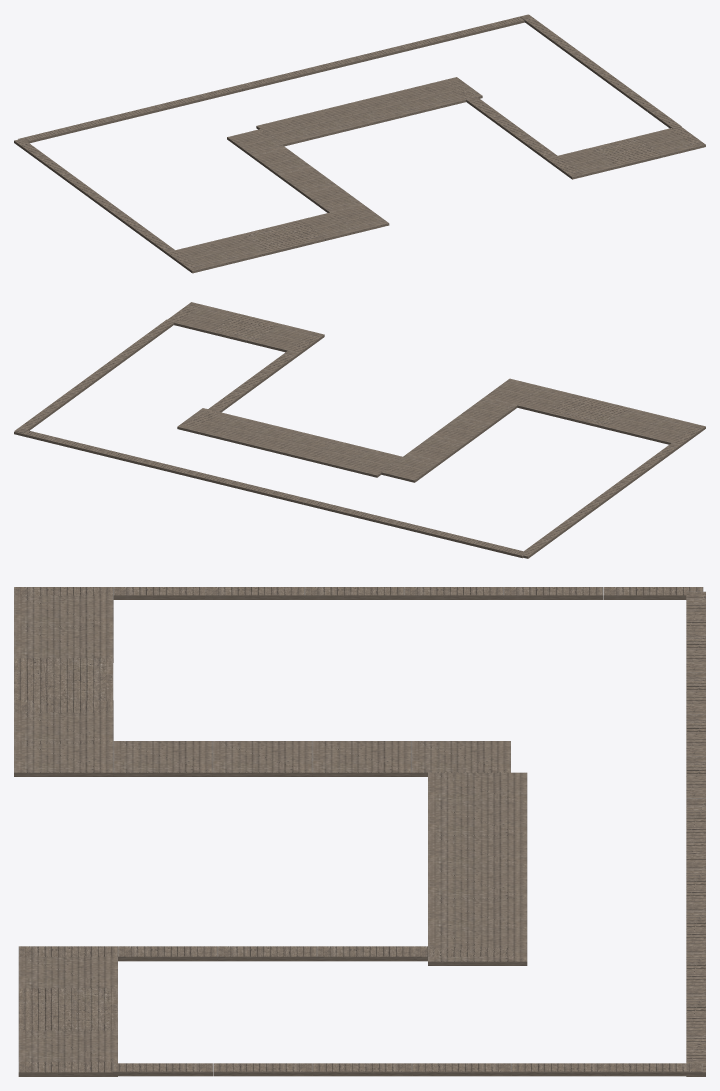
Rendered from town_hall_floor.fbx.
3 renders of one model, top to bottom at view 1: azimuth 30°, elevation 25°; view 2: azimuth 150°, elevation 25°; view 3: azimuth 270°, elevation 25°, orthographic. The views are drawn at different scales.
Visible parts, largest first — view 1: piso_3x4.012; view 2: piso_3x4.012; view 3: piso_3x4.012.
Boxes of the visible parts, x1,y1,x2,y2 form: piso_3x4.012: (14,14,705,273); piso_3x4.012: (14,302,705,558); piso_3x4.012: (14,587,705,1076).
Size of the model in its own units: 4622 by 23.8 by 2784.
